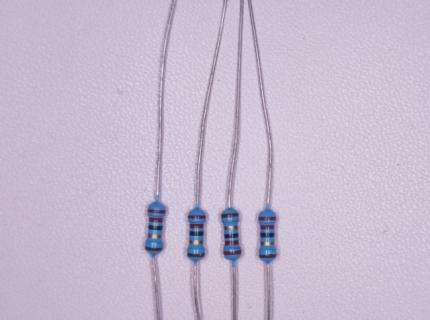Black band: (224, 233, 239, 239), (189, 230, 204, 236), (260, 232, 275, 237), (148, 225, 163, 230)
Brown band: (187, 252, 206, 258), (221, 213, 239, 219), (145, 246, 163, 252), (259, 254, 277, 258)
Gold band: (147, 233, 162, 239), (260, 241, 276, 246), (224, 225, 239, 230), (189, 240, 204, 244)
Red band: (148, 208, 166, 214), (224, 240, 239, 246), (223, 250, 241, 255), (258, 216, 276, 221), (189, 223, 204, 228), (188, 215, 206, 219), (149, 217, 163, 222), (260, 225, 274, 230)
